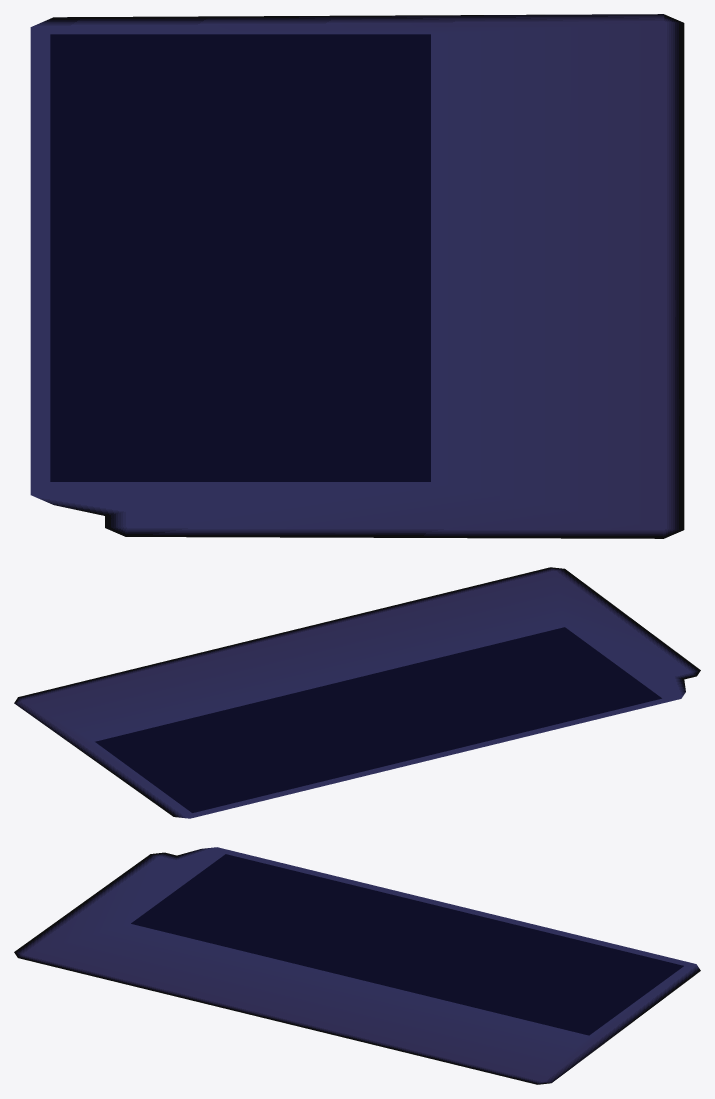
3 renders of one model, top to bottom at view 1: azimuth 30°, elevation 25°; view 2: azimuth 150°, elevation 25°; view 3: azimuth 270°, elevation 25°, orthographic. The views are drawn at different scales.
Parts seen in each view (by area): view 1: Joint_0_Object_0; view 2: Joint_0_Object_0; view 3: Joint_0_Object_0.
Boxes of the visible parts, left/top/right/bottom form: Joint_0_Object_0: left=30, top=14, right=684, bottom=538; Joint_0_Object_0: left=14, top=567, right=700, bottom=818; Joint_0_Object_0: left=14, top=847, right=700, bottom=1084.
Size of the model in its own units: 945 by 0 by 1154.
Materials: 1 (1 with a texture image).
